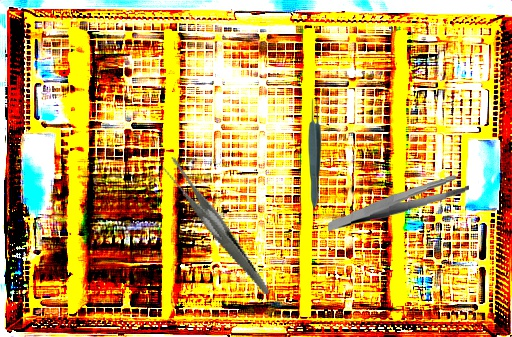Dressing Forceps: (159, 141, 271, 313), (325, 174, 472, 232)
Tissue Forceps: (308, 98, 322, 207)
